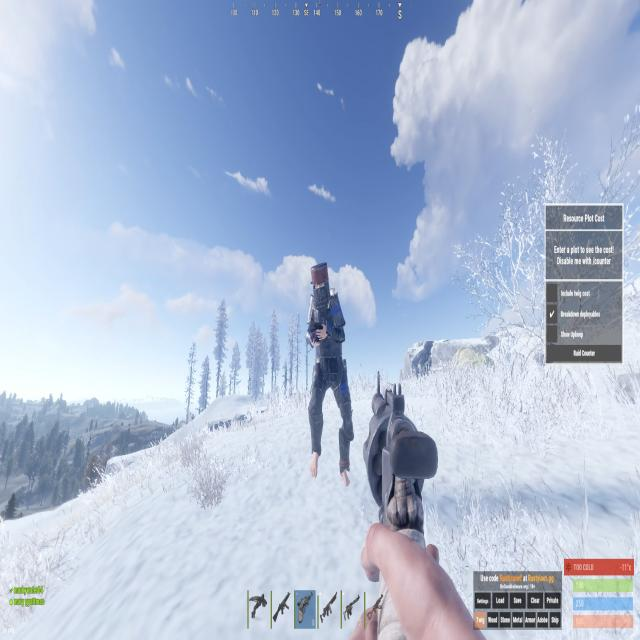Player: (304, 257, 354, 497)
